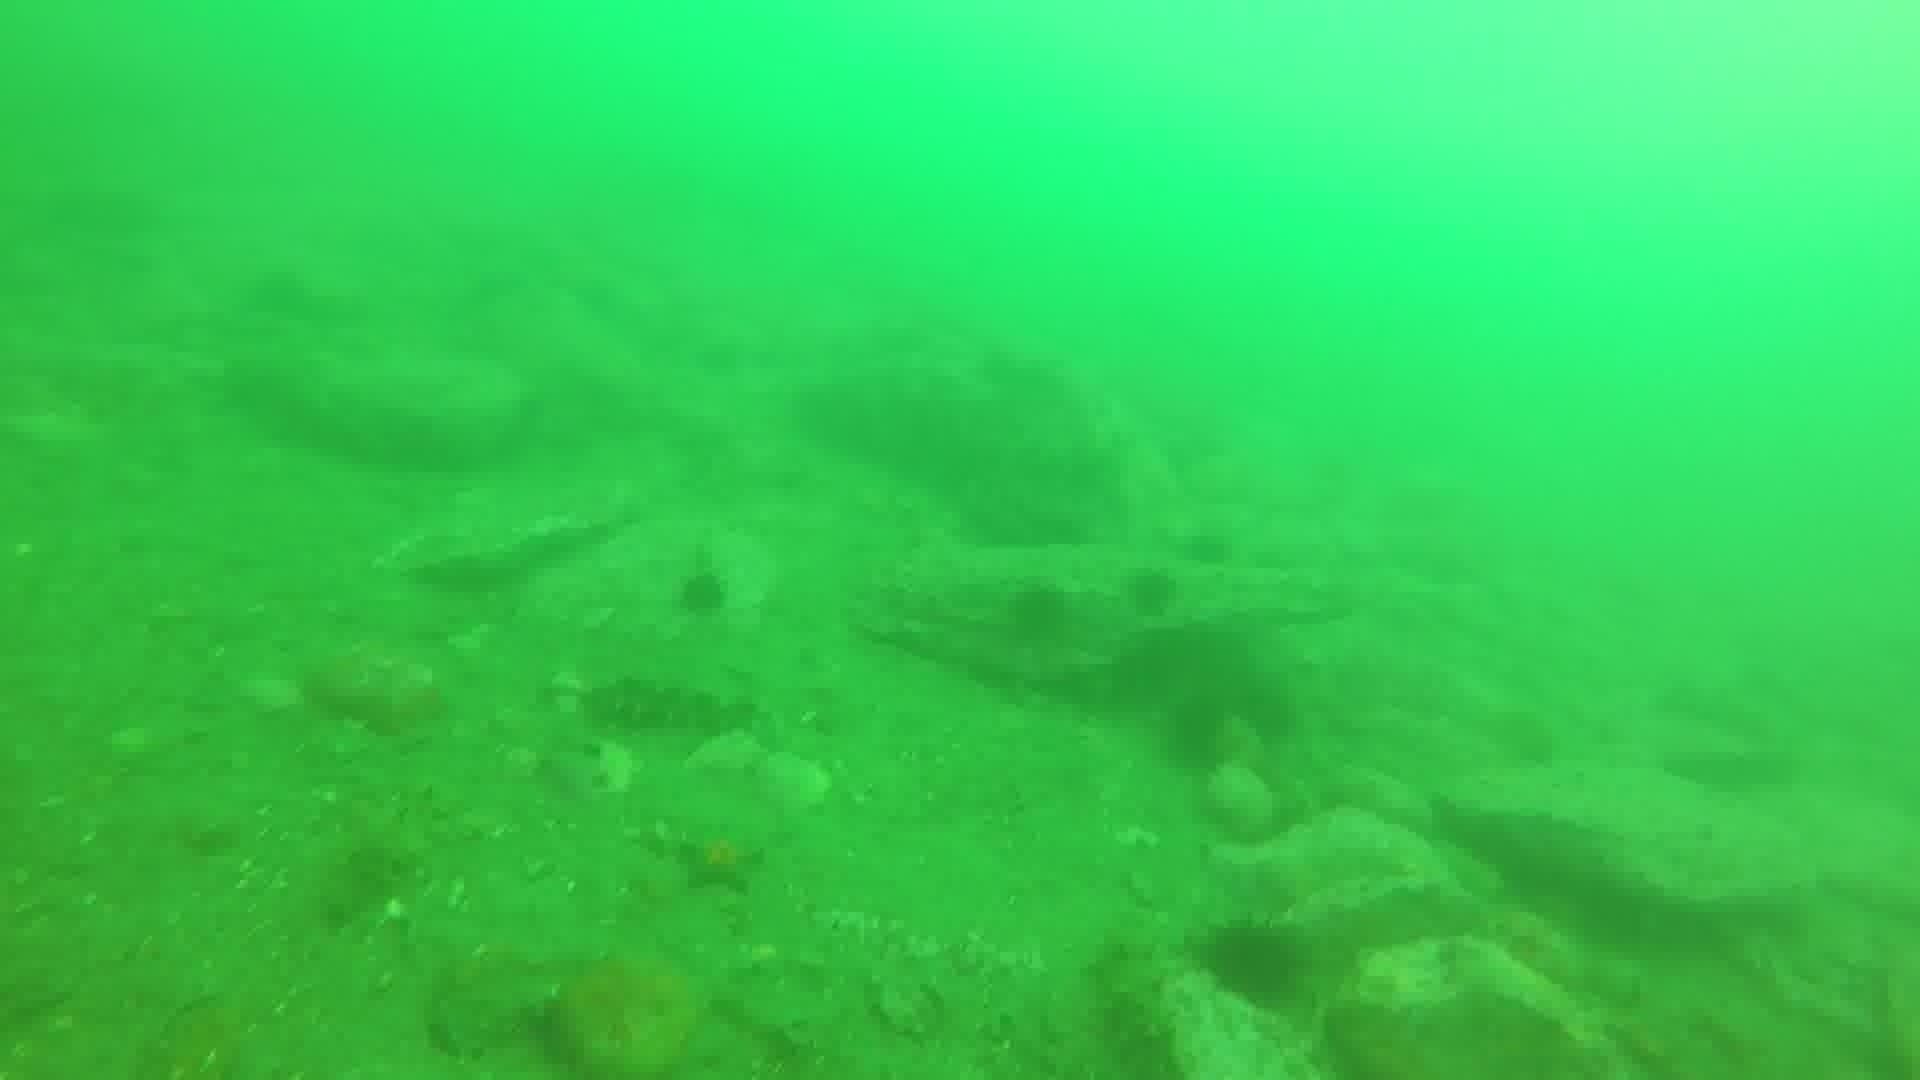echinus: (1195, 914, 1309, 1011), (1155, 688, 1240, 775), (998, 578, 1076, 651), (1118, 563, 1183, 622), (670, 564, 735, 622), (1178, 522, 1238, 574)
holothurian: (309, 781, 442, 931), (1084, 930, 1193, 1080), (575, 669, 760, 742)
starfish: (670, 822, 767, 897)
